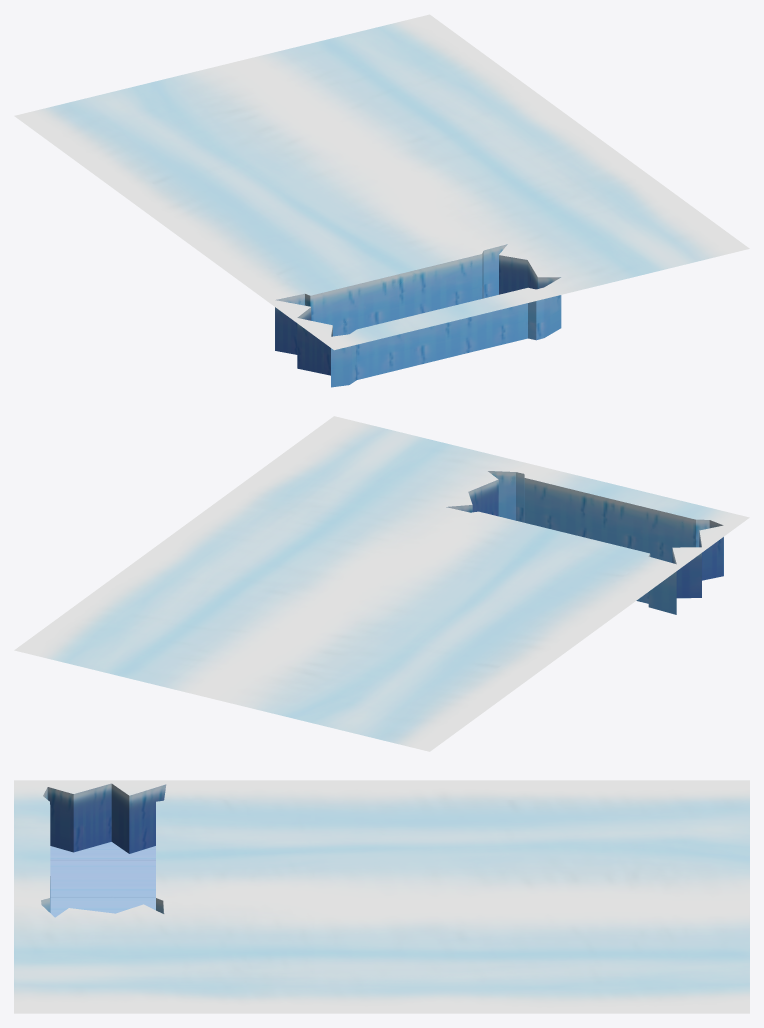
The model's file is Hole_L_S_01_L.FBX.
3 renders of one model, top to bottom at view 1: azimuth 30°, elevation 25°; view 2: azimuth 150°, elevation 25°; view 3: azimuth 270°, elevation 25°, orthographic. The views are drawn at different scales.
Visible parts, largest first — view 1: Object133; view 2: Object133; view 3: Object133.
Part boxes in pixels (box(x1,y1,x2,y2)): Object133: box(14, 14, 749, 387); Object133: box(14, 416, 749, 751); Object133: box(14, 780, 749, 1013).
Size of the model in its own units: 600 by 70 by 800.
